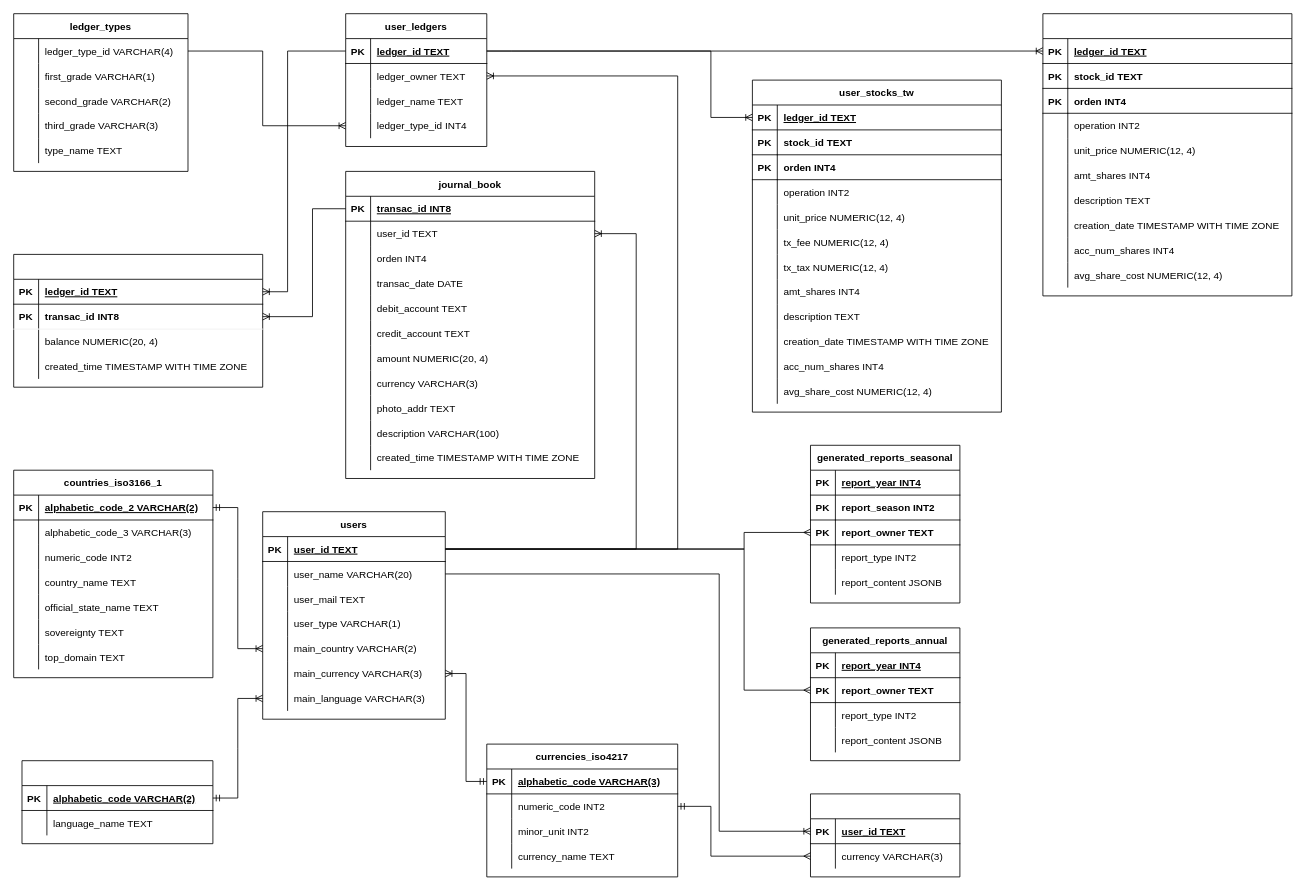
Some shapes in this 1306 by 891 pixel diagram are drawn without their labels. Here are the shapes that lost their labels. From the top down, the box of each, then its label:
(1042, 13, 1292, 296): user_stocks_us
(13, 254, 263, 387): ledger_balance
(21, 760, 213, 844): languages_iso639_1
(810, 793, 960, 877): user_currency
